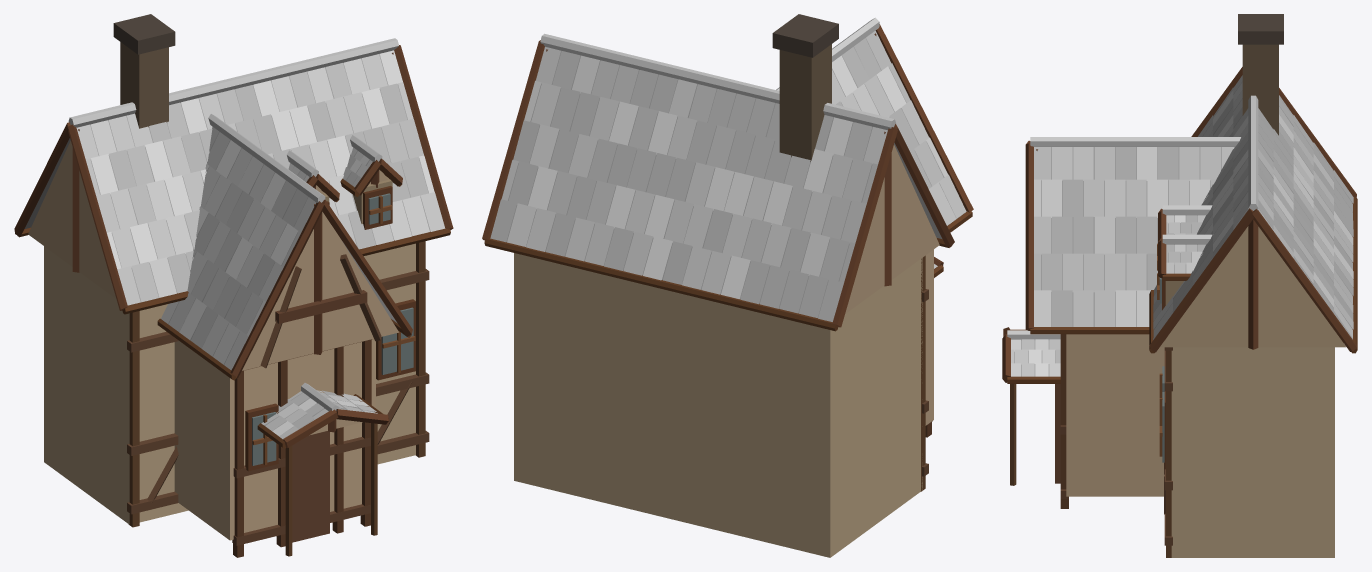
The model's file is cottage.glb.
3 views of the same model, side by side, from view 1: azimuth 30°, elevation 25°; view 2: azimuth 150°, elevation 25°; view 3: azimuth 270°, elevation 25° (orthographic). The views are drawn at different scales.
Visible parts, largest first — view 1: TimberAndPlaster, RoofTiles, Casements; view 2: TimberAndPlaster, RoofTiles; view 3: TimberAndPlaster, RoofTiles.
Boxes of the visible parts, x1,y1,x2,y2 form: TimberAndPlaster: (14, 14, 453, 557); RoofTiles: (24, 38, 445, 439); Casements: (252, 193, 413, 465); TimberAndPlaster: (482, 14, 973, 557); RoofTiles: (490, 18, 966, 321); TimberAndPlaster: (1002, 14, 1357, 557); RoofTiles: (1007, 75, 1353, 376).
Size of the model in its own units: 2.03 by 2.63 by 1.97.
